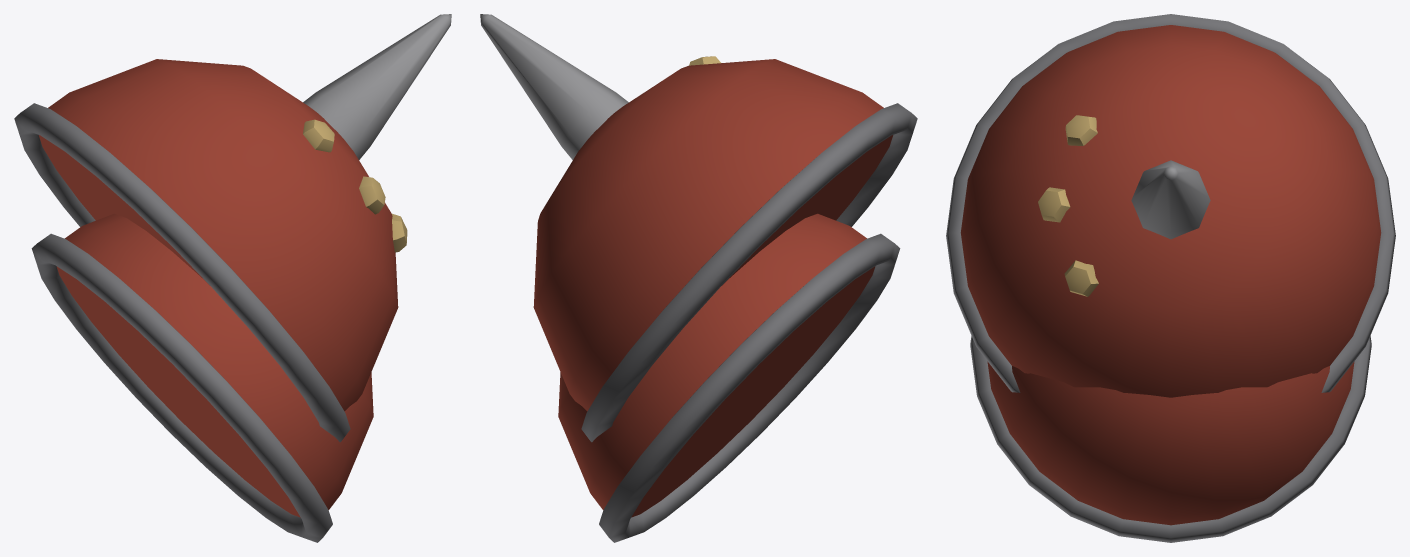
Rendered from Kit_Deco_Pauldron.glb.
The picture shows the model from 3 angles, left to right: view 1: azimuth 30°, elevation 25°; view 2: azimuth 150°, elevation 25°; view 3: azimuth 270°, elevation 25°; orthographic projection. The views are drawn at different scales.
Visible parts, largest first — view 1: Kit_Deco_Pauldron; view 2: Kit_Deco_Pauldron; view 3: Kit_Deco_Pauldron.
Part boxes in pixels (box(x1,y1,x2,y2)): Kit_Deco_Pauldron: box(14, 14, 451, 542); Kit_Deco_Pauldron: box(480, 14, 917, 542); Kit_Deco_Pauldron: box(946, 14, 1395, 542).
Bounding box in the file's own units: 0.1809 × 0.2079 × 0.1867.
